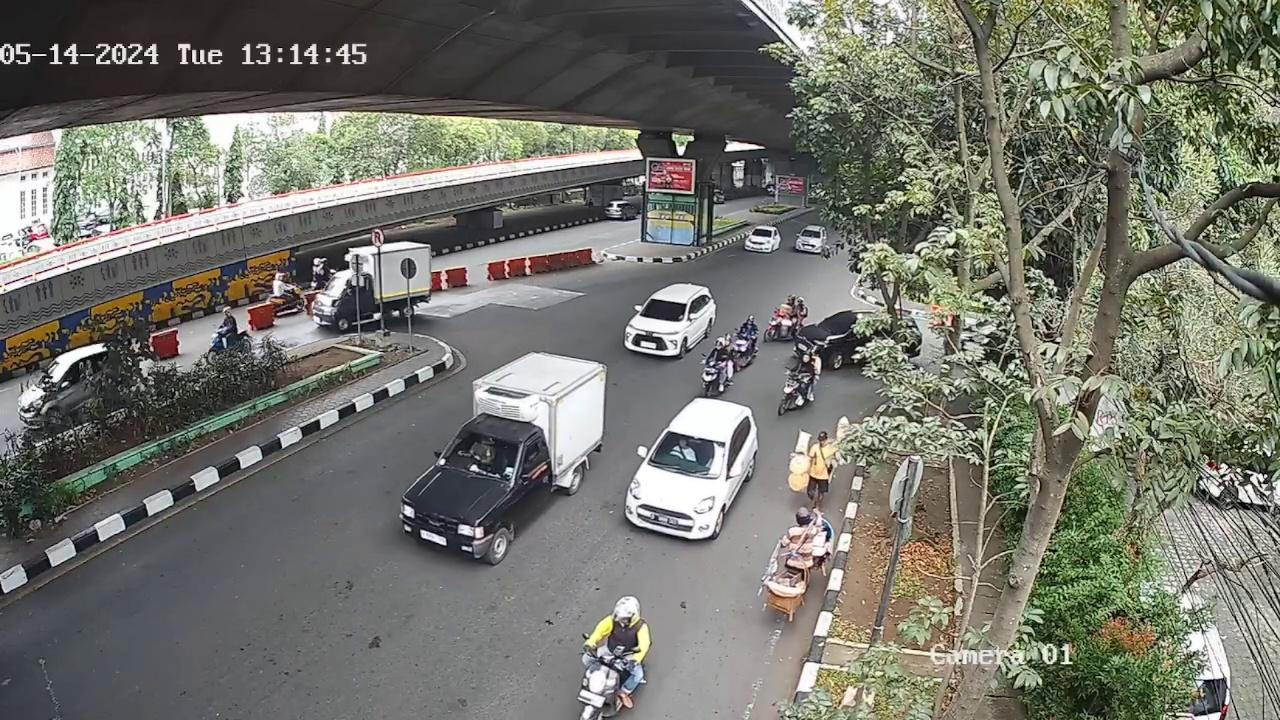pakai: (671, 436, 697, 463)
windshield: (436, 432, 522, 483), (651, 433, 727, 478)
